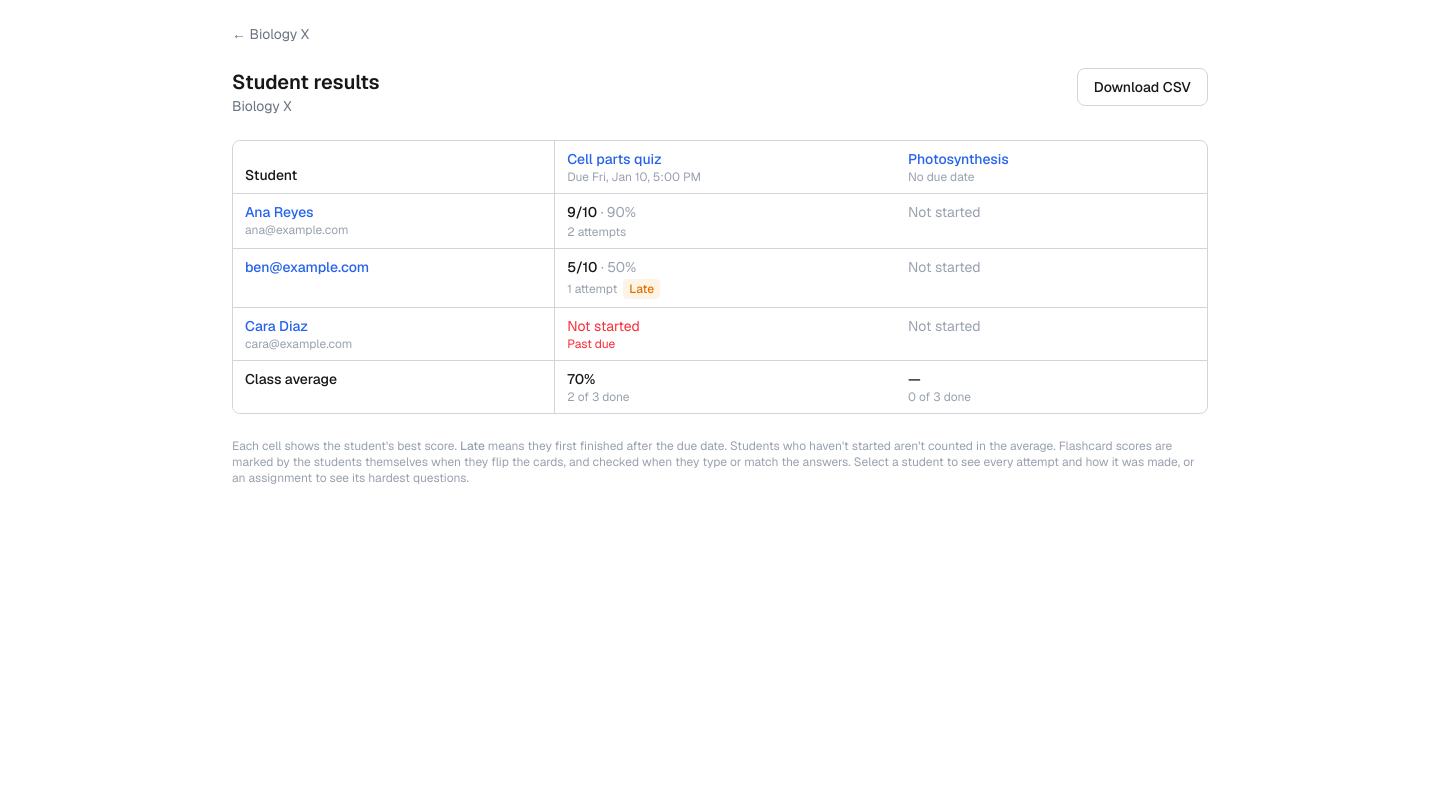
Test: class results page › shows the error if a student's attempts can't be loaded
Click the button "Cara Diaz" at (276, 326), box [245, 316, 308, 336]
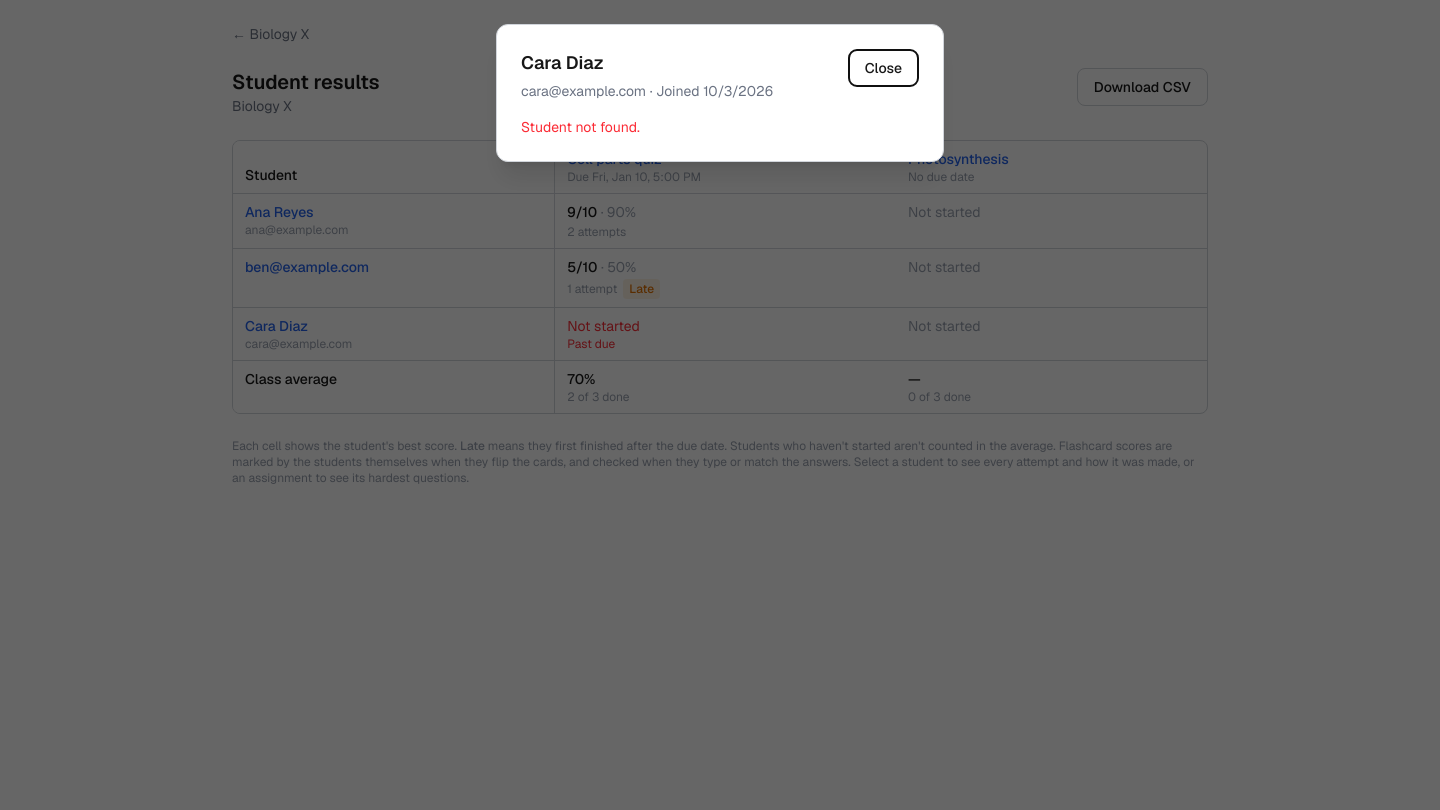
Expected: the message reads "Student not found.", [521, 118, 640, 136]
